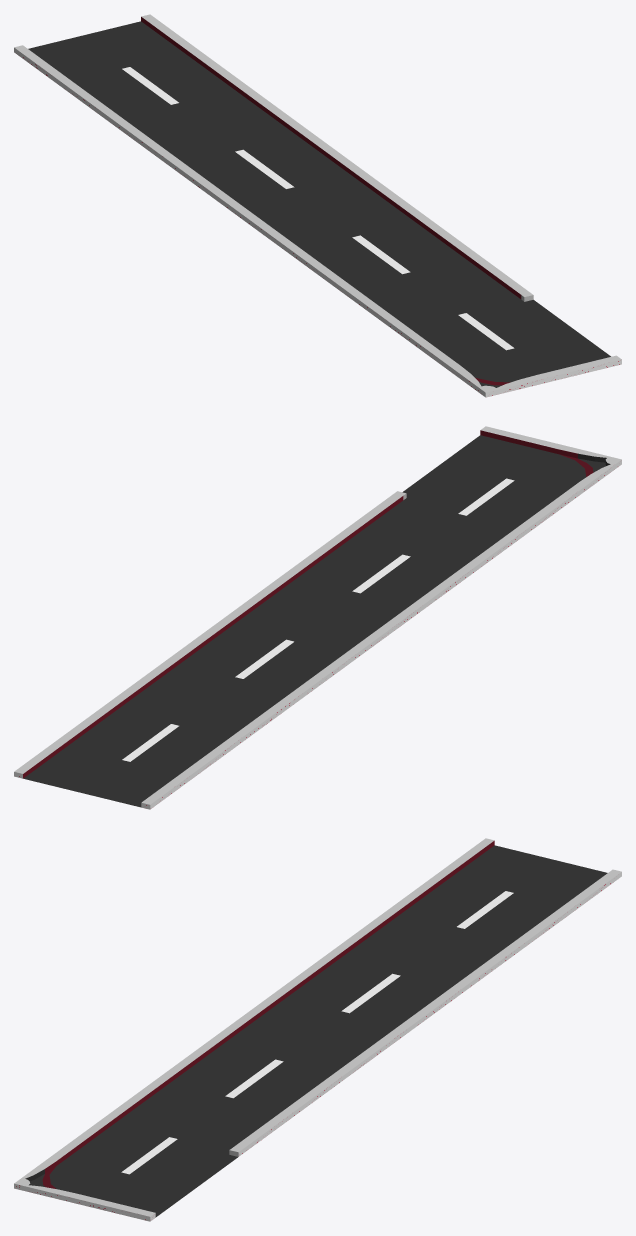
File: RoadForward_1.fbx
3 views of the same model, one above another, from view 1: azimuth 30°, elevation 25°; view 2: azimuth 150°, elevation 25°; view 3: azimuth 330°, elevation 25° (orthographic).
Parts seen in each view (by area): view 1: Plane.001; view 2: Plane.001; view 3: Plane.001.
Part boxes in pixels (x1,y1,x2,y2): Plane.001: [14, 14, 621, 397]; Plane.001: [14, 426, 621, 809]; Plane.001: [14, 838, 621, 1221].
Bounding box in the file's own units: 200 × 6.88 × 1200.
1 material, 1 textured.
